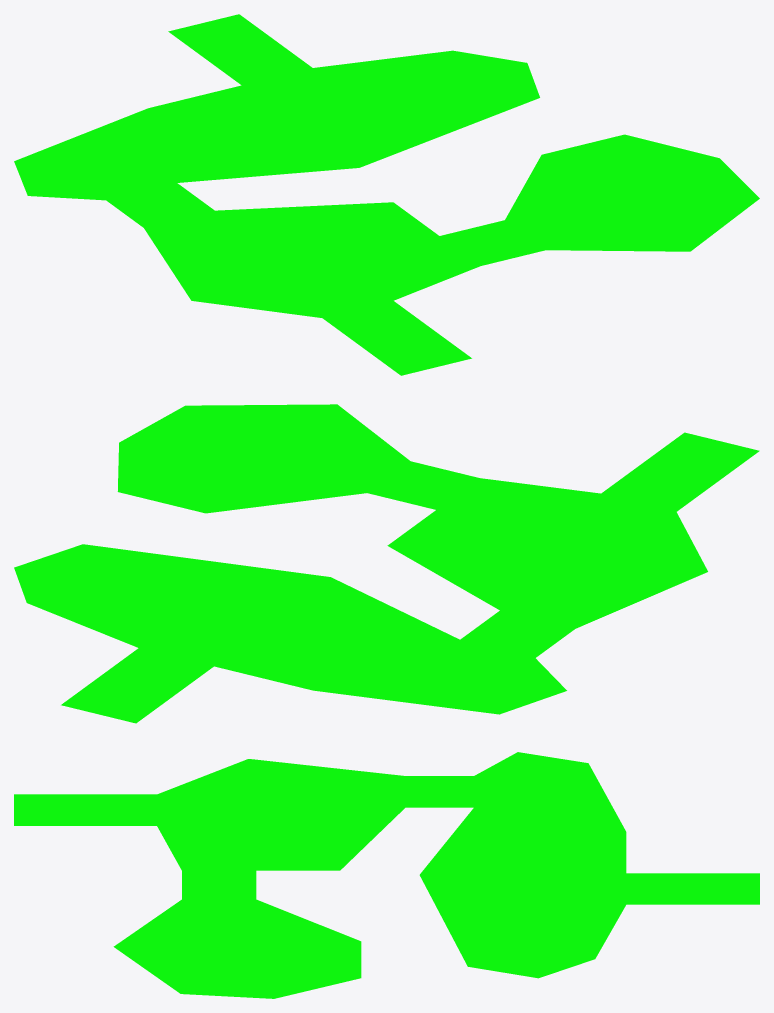
Rendered from s03b_ic3-floor.glb.
3 renders of one model, top to bottom at view 1: azimuth 30°, elevation 25°; view 2: azimuth 150°, elevation 25°; view 3: azimuth 270°, elevation 25°, orthographic. The views are drawn at different scales.
Parts seen in each view (by area): view 1: collision_floor-colonly; view 2: collision_floor-colonly; view 3: collision_floor-colonly.
Part boxes in pixels (left/top/right/bottom): collision_floor-colonly: left=14, top=14, right=759, bottom=375; collision_floor-colonly: left=14, top=404, right=759, bottom=723; collision_floor-colonly: left=14, top=752, right=759, bottom=998.
Size of the model in its own units: 46.98 by 0 by 60.
